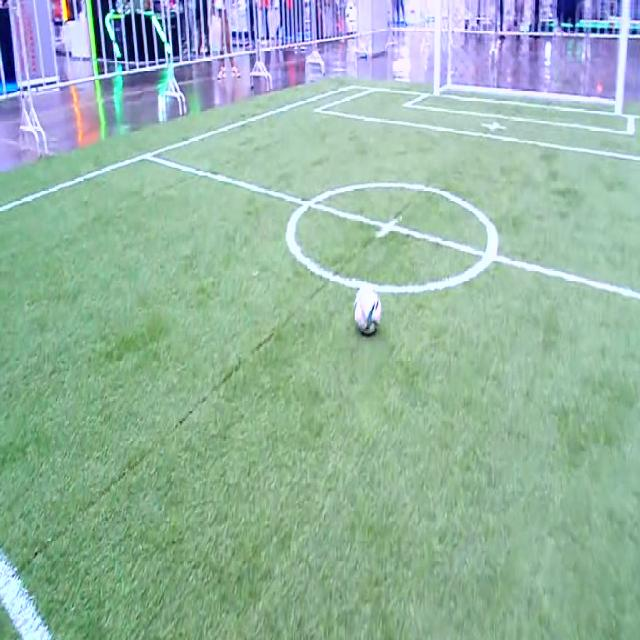ball: (354, 285, 382, 336)
